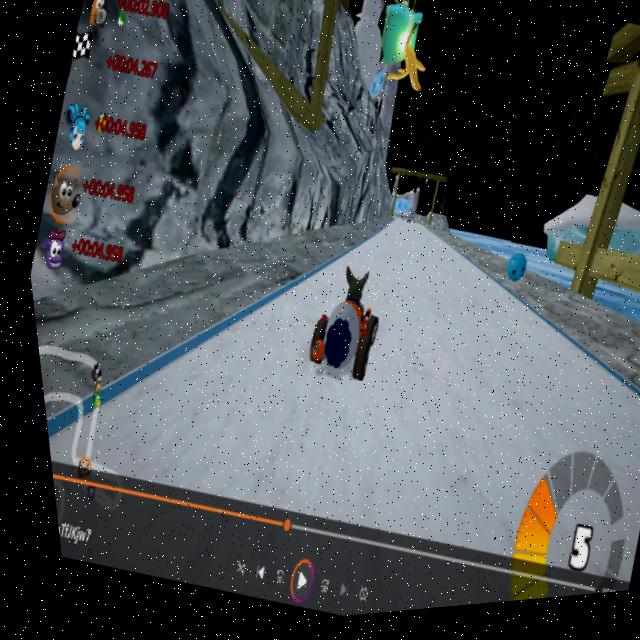obstacle: (495, 256, 525, 291)
player_kart: (288, 262, 386, 393)
track: (354, 222, 447, 307)
